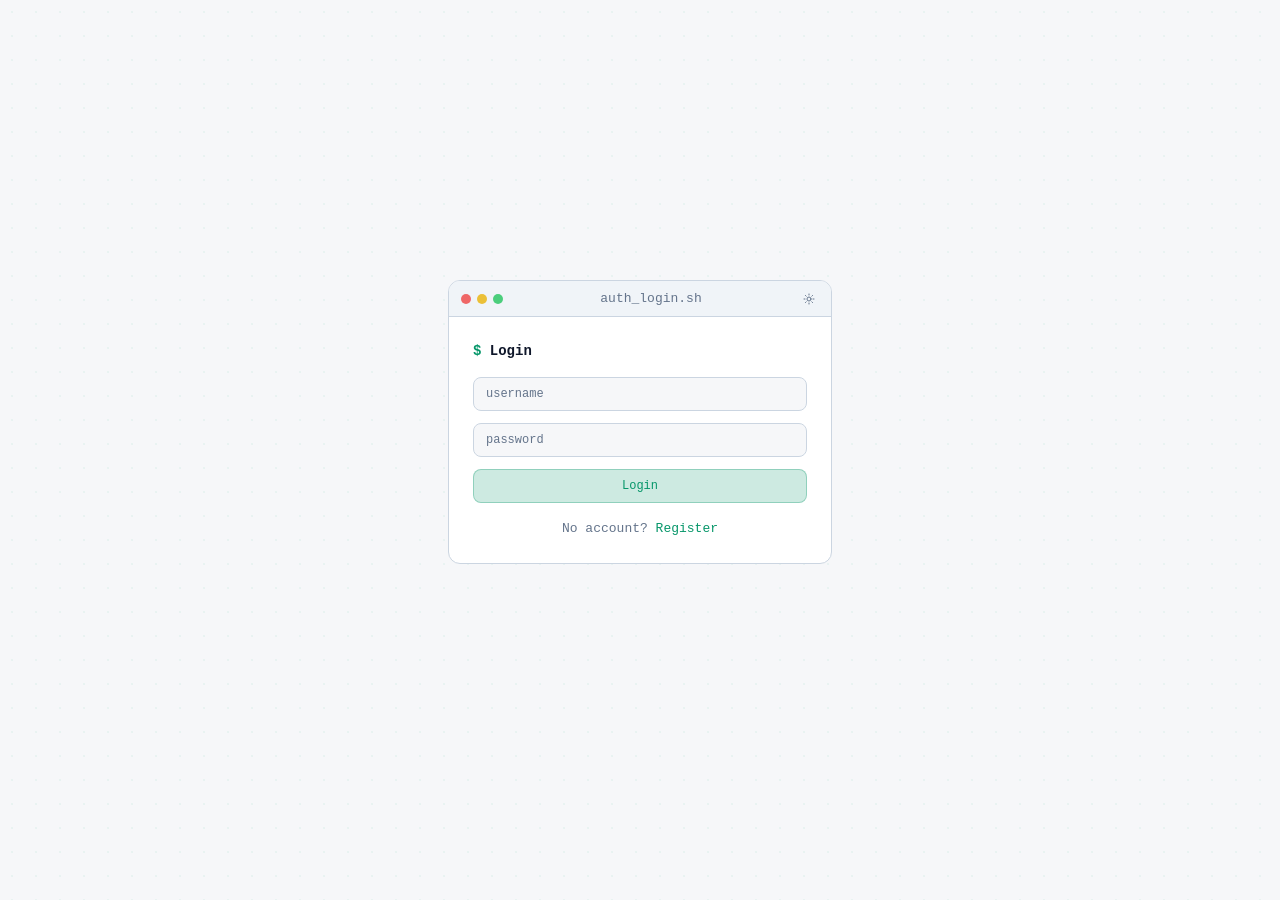
LoginPage › shows the server sentence for a refused login
Type "shing" into the field with placeholder "username" at (640, 394), box [473, 377, 807, 411]
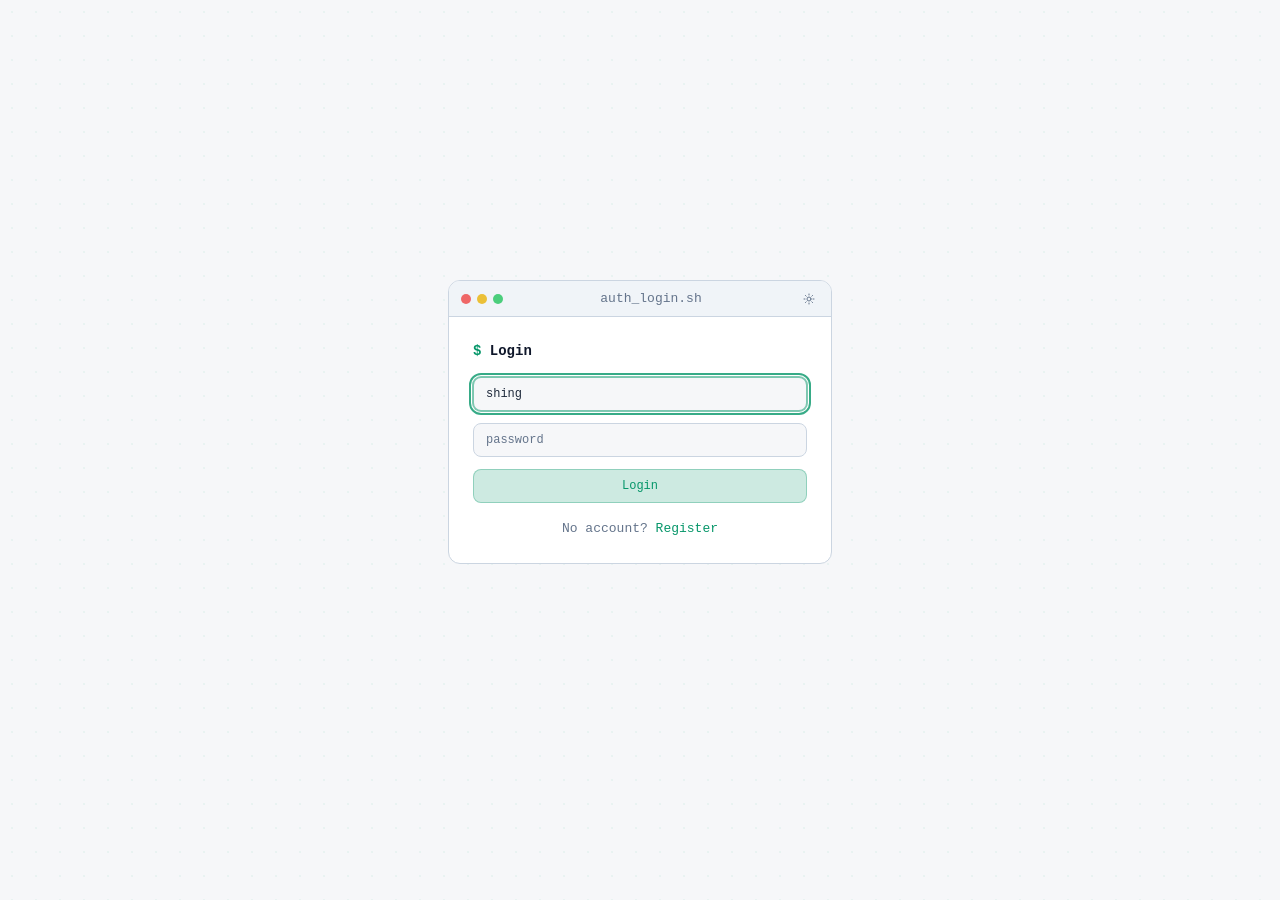
Type "wrongpassword" into the password field with placeholder "password" at (640, 440), box [473, 423, 807, 457]
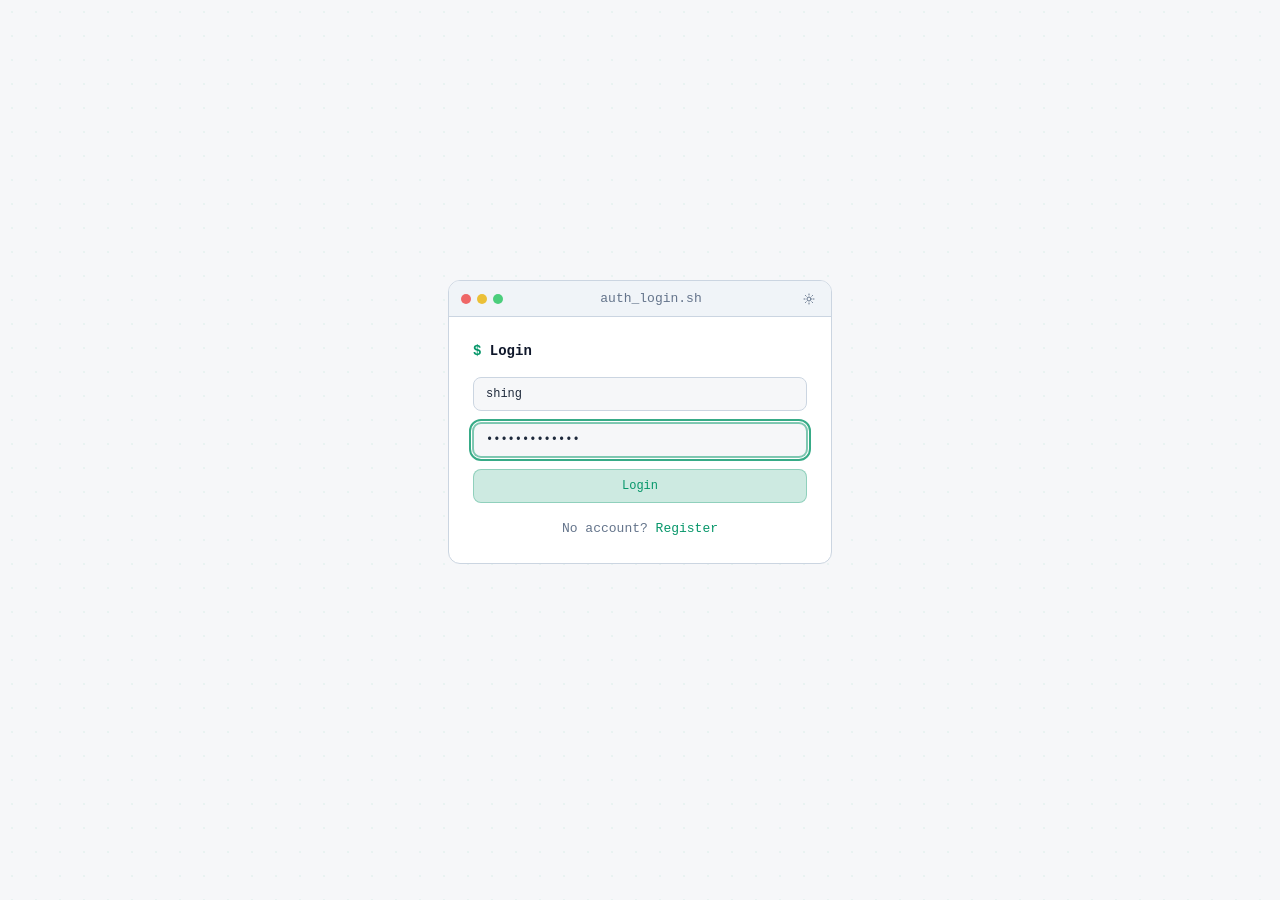
Click the button "Login" at (640, 486), box [473, 469, 807, 503]
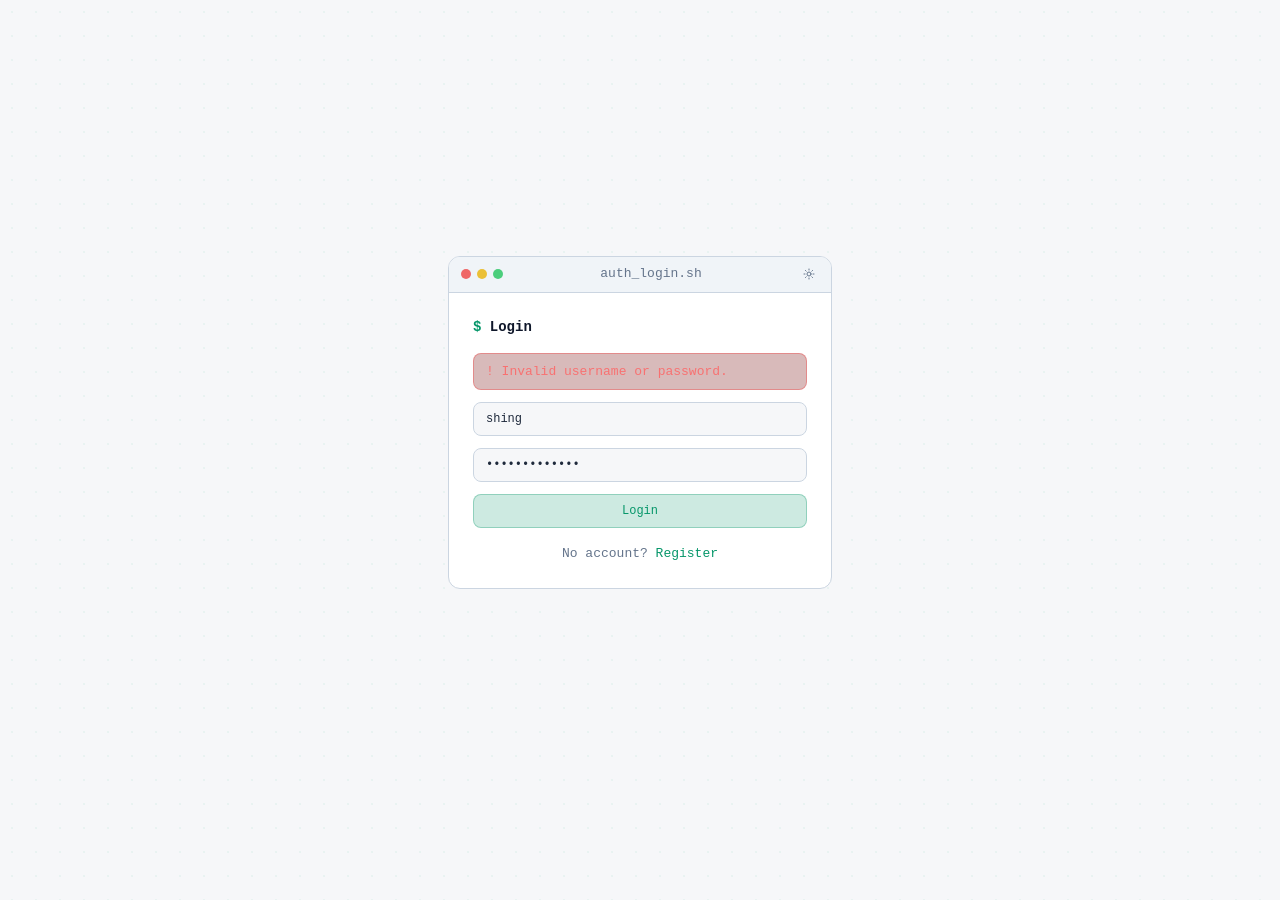
Check: the text "! Invalid username or password." is shown, box [473, 352, 807, 390]
